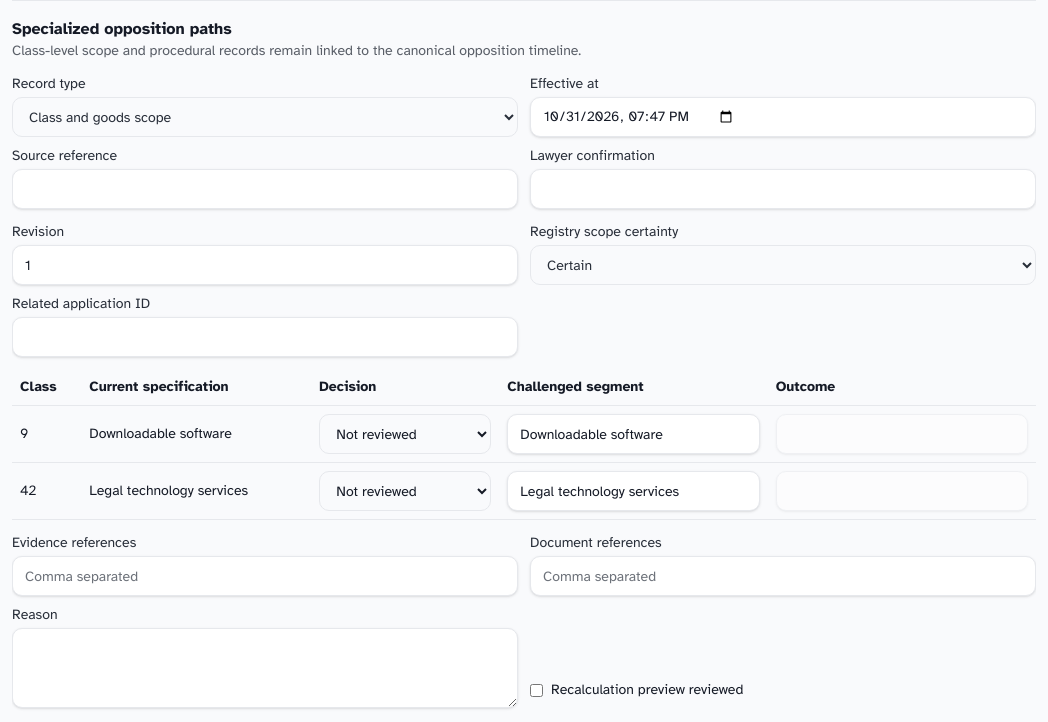
Test case: IpOppositionSpecializedPaths › exposes every specialized procedural path and canonical hearing
Select "Adjournment" in the dropdown with test id "ip-opposition-specialized-action" at (265, 117), box [12,97,518,137]
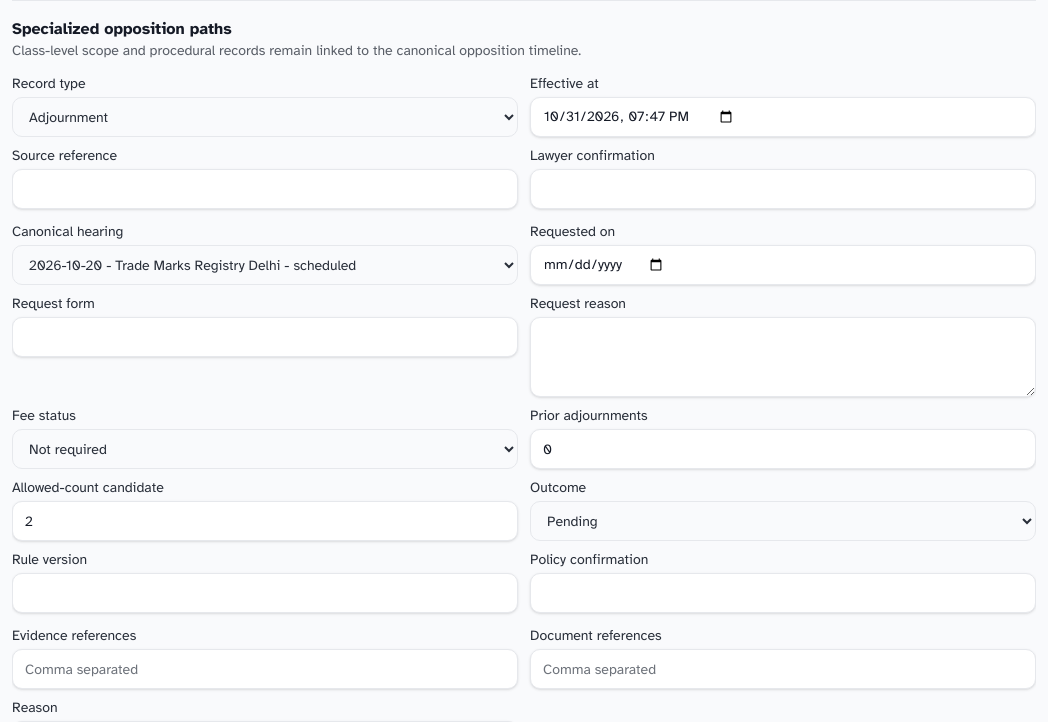
Expected: the number field labelled "Allowed-count candidate" is shown, [12,501,518,541]
Expected: the dropdown labelled "Canonical hearing" shows "2026-10-20 - Trade Marks Registry Delhi - scheduled", [12,245,518,285]
Select "Attendance or nonappearance" in the dropdown with test id "ip-opposition-specialized-action" at (265, 117), box [12,97,518,137]
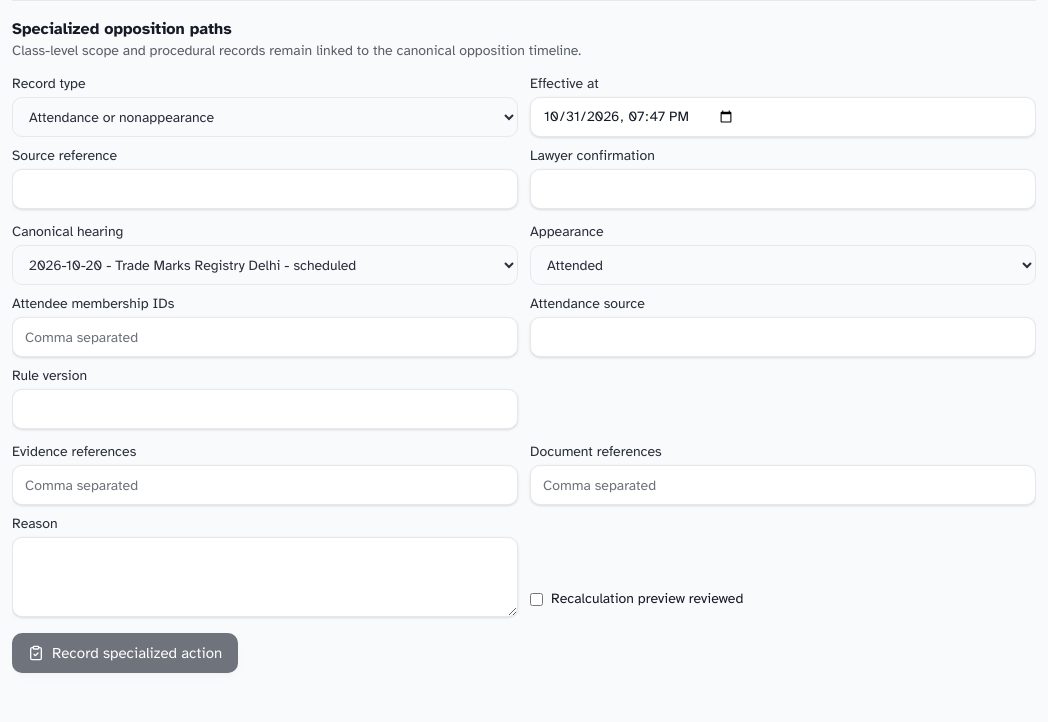
Select "Nonappearance" in the dropdown labelled "Appearance" at (783, 265), box [530,245,1036,285]
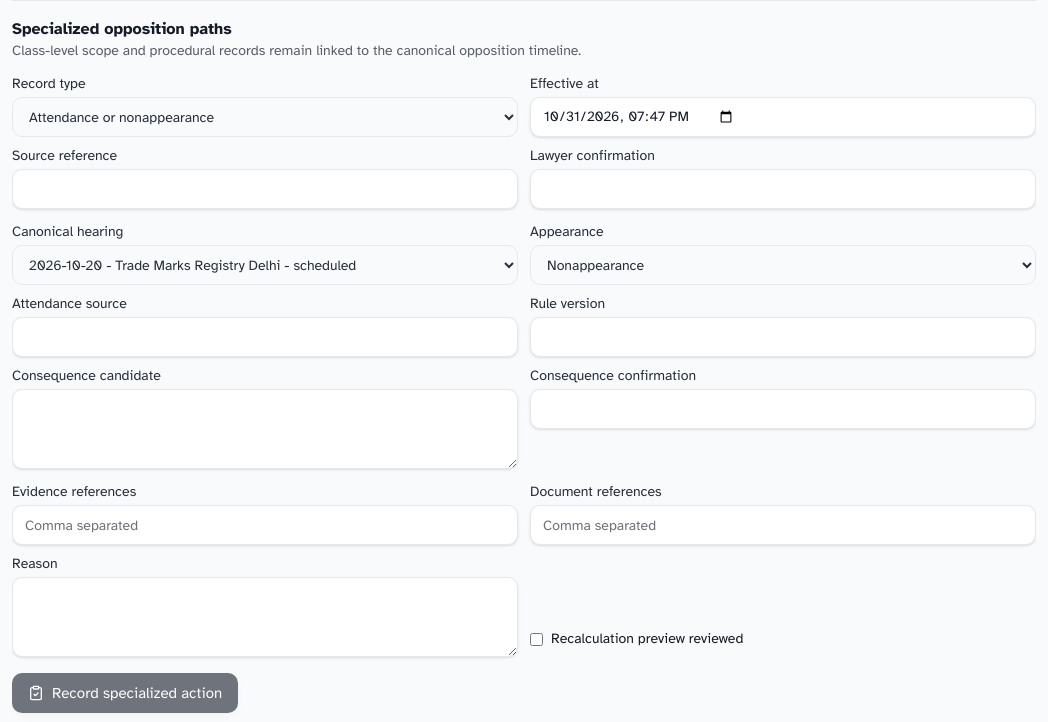
Expected: the text box labelled "Consequence candidate" is shown, [12,389,518,469]
